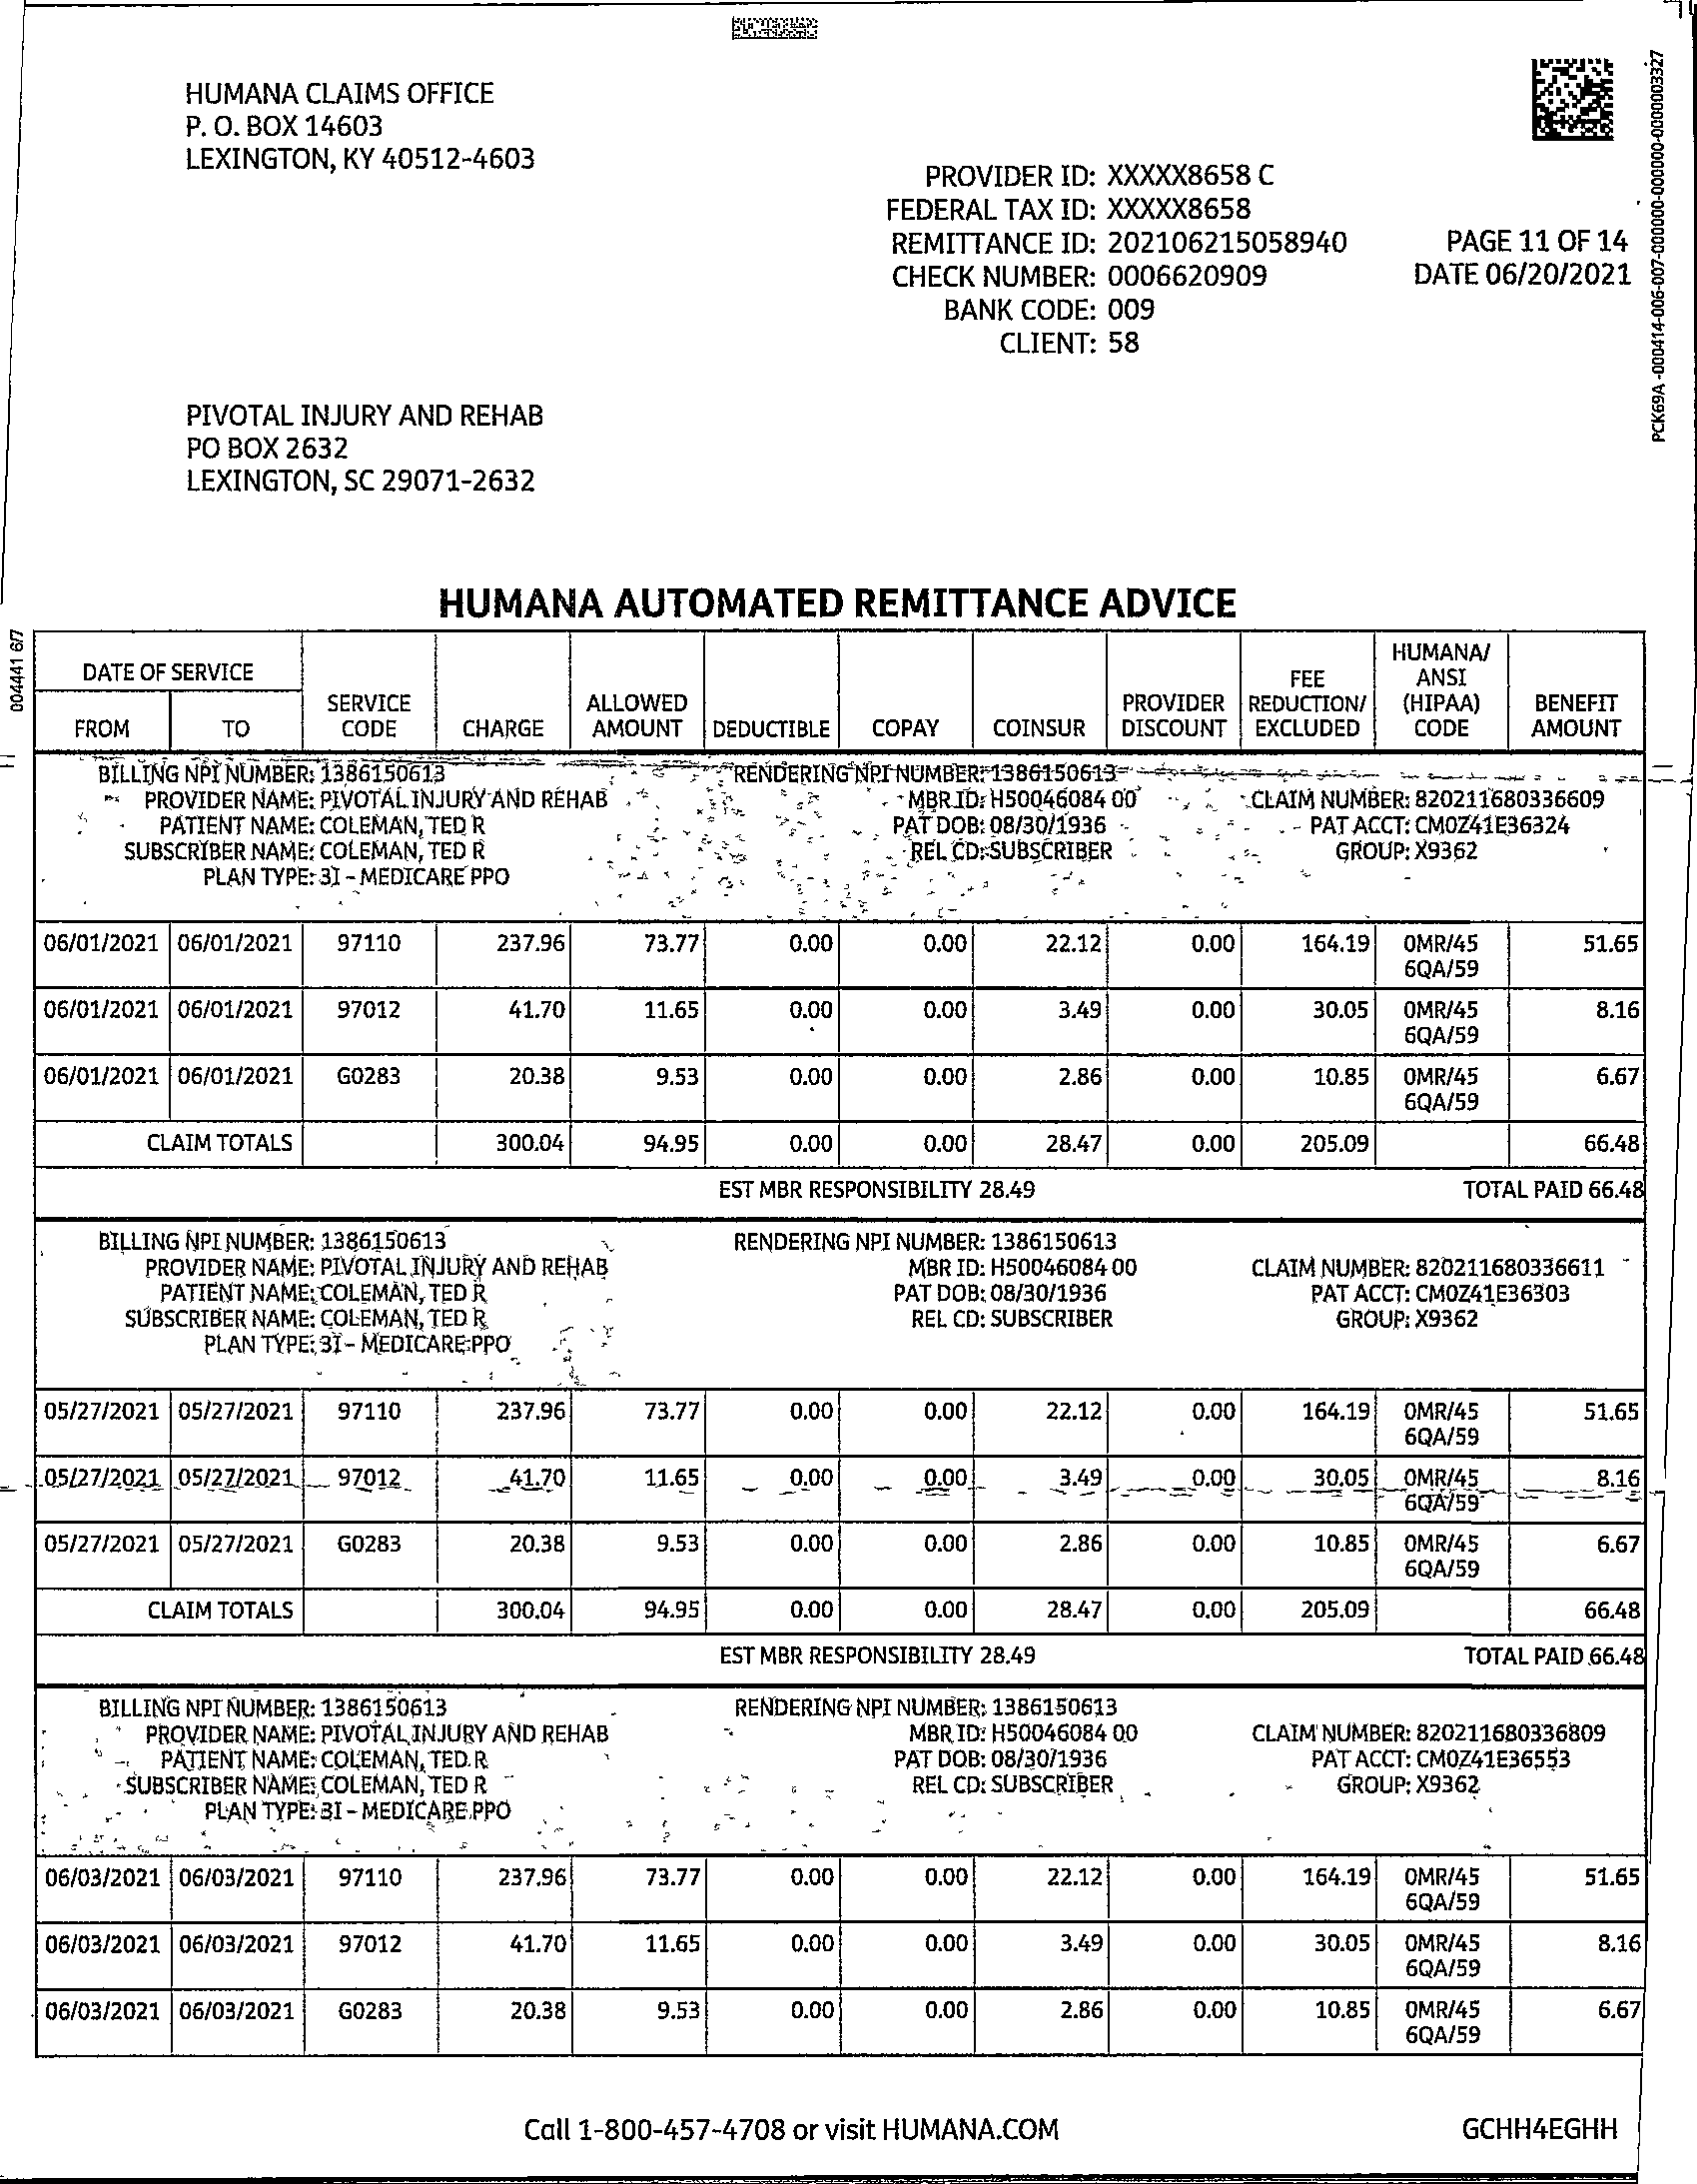data: (85, 1214, 1630, 1377), (74, 757, 1624, 916), (85, 1695, 1619, 1833), (850, 147, 1382, 379), (170, 372, 593, 526)
table: (19, 615, 1649, 2099)
